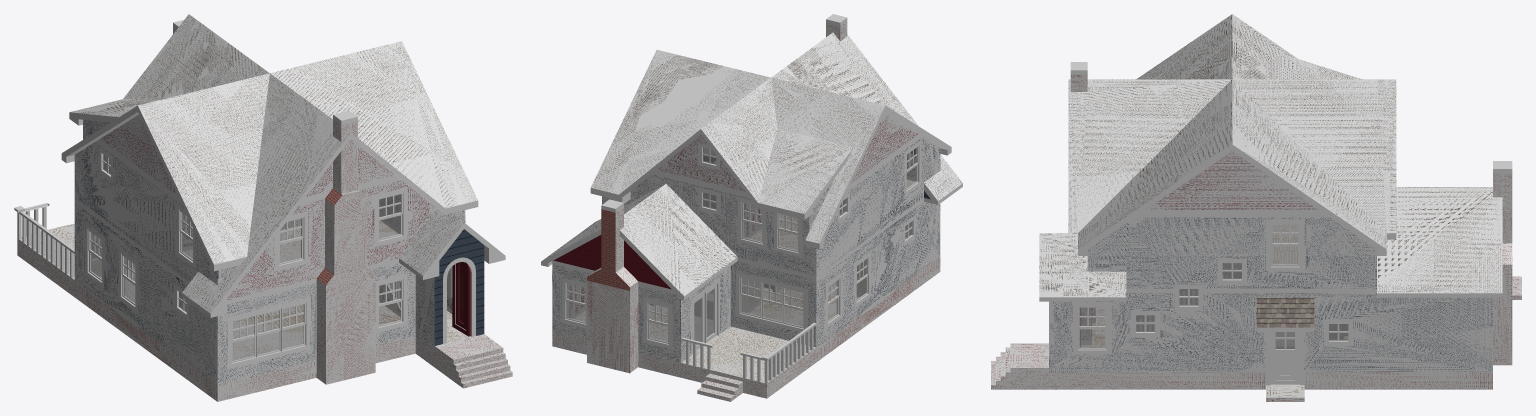
The model's file is gable.dae.
3 views of the same model, side by side, from view 1: azimuth 30°, elevation 25°; view 2: azimuth 150°, elevation 25°; view 3: azimuth 270°, elevation 25° (orthographic). The views are drawn at different scales.
Visible parts, largest first — view 1: Group24, Group1, Group18, Group29, Group10, Group25, Group22, Group14, Group2, Group9, Group12, Group30; view 2: Group24, Group1, Group6, Group34, Group7, Group32, Group4, Group3, Group5, Group16, Group12, Group30 (+4 smaller); view 3: Group24, Group1, Group13, Group23, Group36, Group21, Group11, Group15, Group26.
Part boxes in pixels (bbox=[...]): Group24: bbox=[61, 14, 505, 317]; Group1: bbox=[14, 203, 512, 401]; Group18: bbox=[443, 257, 475, 343]; Group29: bbox=[374, 187, 407, 246]; Group10: bbox=[375, 274, 407, 332]; Group25: bbox=[275, 211, 308, 271]; Group22: bbox=[281, 297, 310, 355]; Group14: bbox=[228, 310, 256, 368]; Group2: bbox=[256, 304, 281, 361]; Group9: bbox=[85, 223, 104, 288]; Group12: bbox=[118, 248, 137, 312]; Group30: bbox=[176, 203, 195, 268]; Group24: bbox=[541, 14, 962, 299]; Group1: bbox=[552, 201, 940, 401]; Group6: bbox=[643, 297, 671, 349]; Group34: bbox=[737, 197, 766, 248]; Group7: bbox=[561, 277, 586, 328]; Group32: bbox=[773, 212, 802, 257]; Group4: bbox=[736, 272, 761, 322]; Group3: bbox=[782, 283, 807, 333]; Group5: bbox=[761, 278, 782, 327]; Group16: bbox=[704, 278, 720, 343]; Group12: bbox=[854, 251, 871, 307]; Group30: bbox=[904, 140, 921, 196]; Group24: bbox=[1039, 14, 1512, 301]; Group1: bbox=[991, 269, 1521, 401]; Group13: bbox=[1266, 332, 1304, 385]; Group23: bbox=[1073, 302, 1111, 354]; Group36: bbox=[1266, 219, 1304, 271]; Group21: bbox=[1174, 284, 1203, 310]; Group11: bbox=[1131, 311, 1159, 337]; Group15: bbox=[1324, 319, 1352, 345]; Group26: bbox=[1218, 258, 1246, 284].
Bounding box in the file's own units: 420 × 660 × 360.
25 materials, 13 textured.
